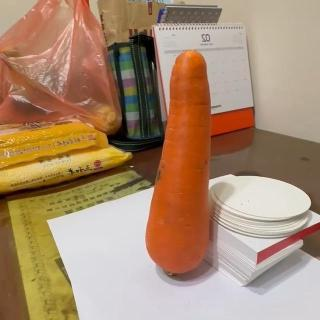carrot: (144, 49, 214, 279)
